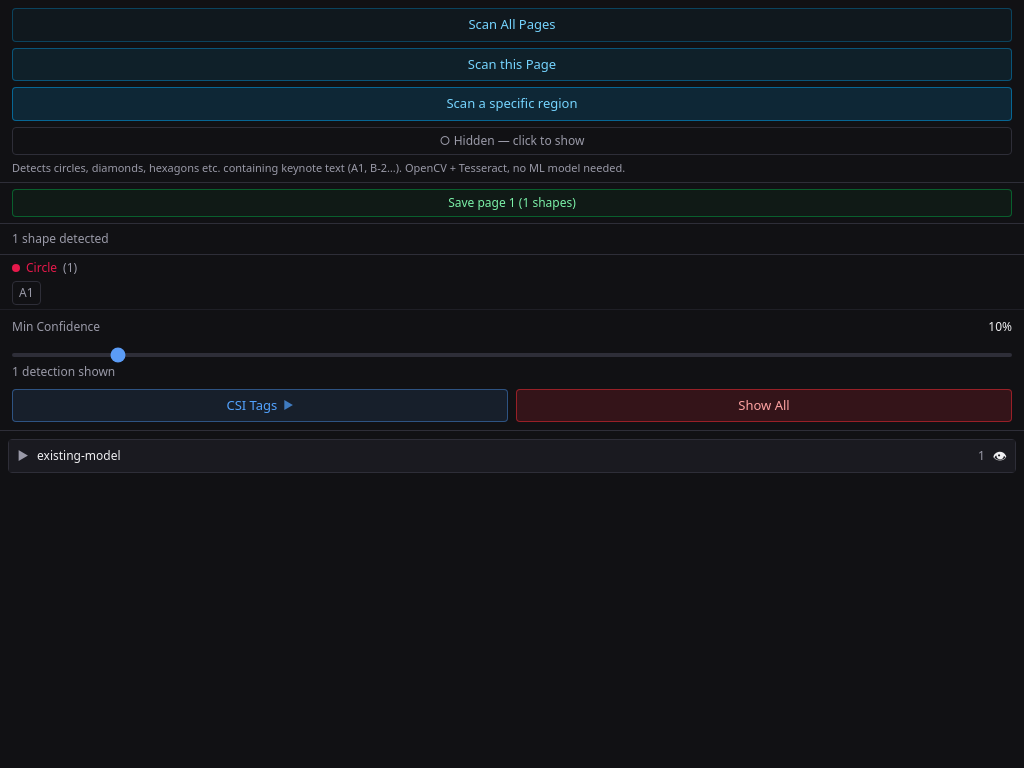
DetectionPanel shape-save — guard, raw-fetch failure, and append+clear › POSTs through raw fetch; non-ok envelope is inline+console and keeps pending/data
This screenshot has width=1024, height=768.
Step 1. Click the button "Save page 1 (1 shapes)" → (512, 203), box [12,189,1012,217]
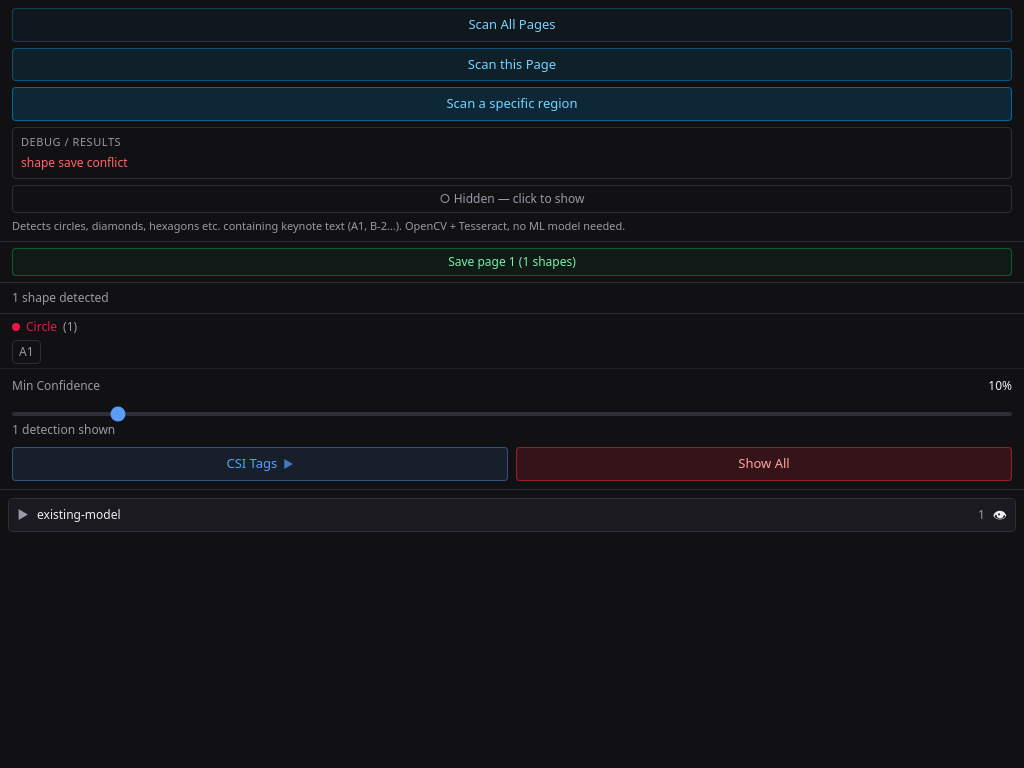
expect the button "Save page 1 (1 shapes)" is enabled: met, box [12,248,1012,276]
expect the text "shape save conflict" is shown: met, box [21,154,128,171]
